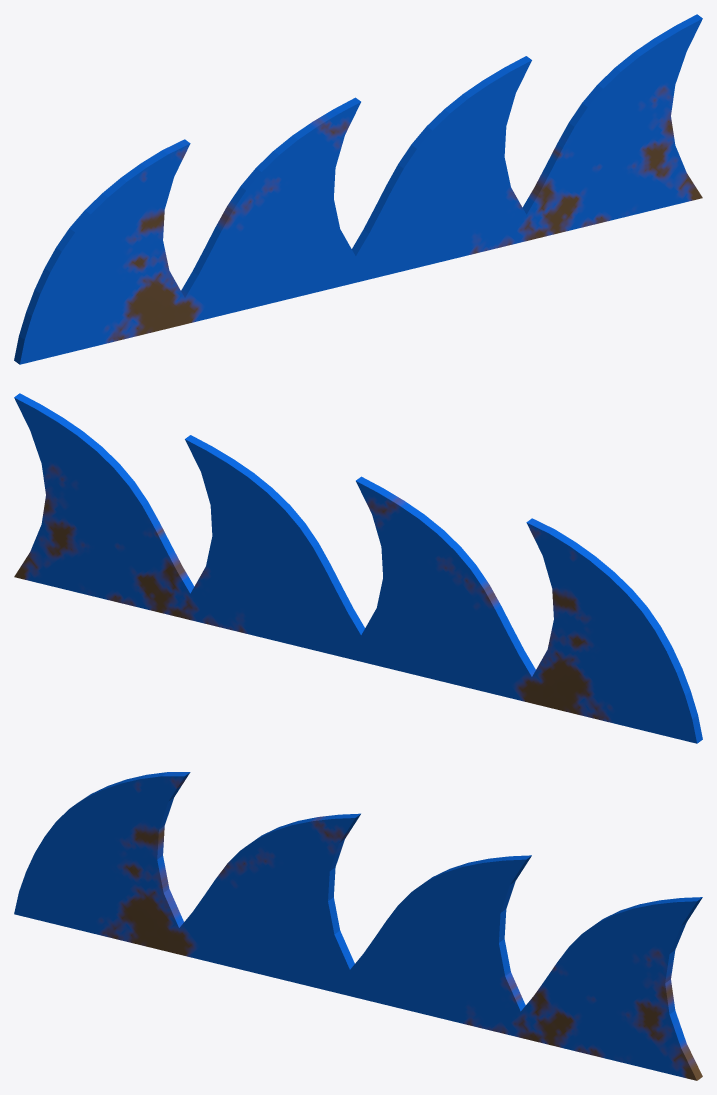
Rendered from ola 4.fbx.
3 views of the same model, one above another, from view 1: azimuth 30°, elevation 25°; view 2: azimuth 150°, elevation 25°; view 3: azimuth 330°, elevation 25° (orthographic).
Parts seen in each view (by area): view 1: ola 4; view 2: ola 4; view 3: ola 4.
Part boxes in pixels (x1,y1,x2,y2): ola 4: (14, 14, 702, 364); ola 4: (14, 393, 702, 743); ola 4: (14, 772, 702, 1080).
Size of the model in its own units: 478 by 120 by 7.04.
